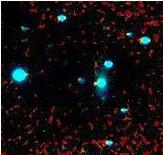star: (79, 68, 109, 98)
